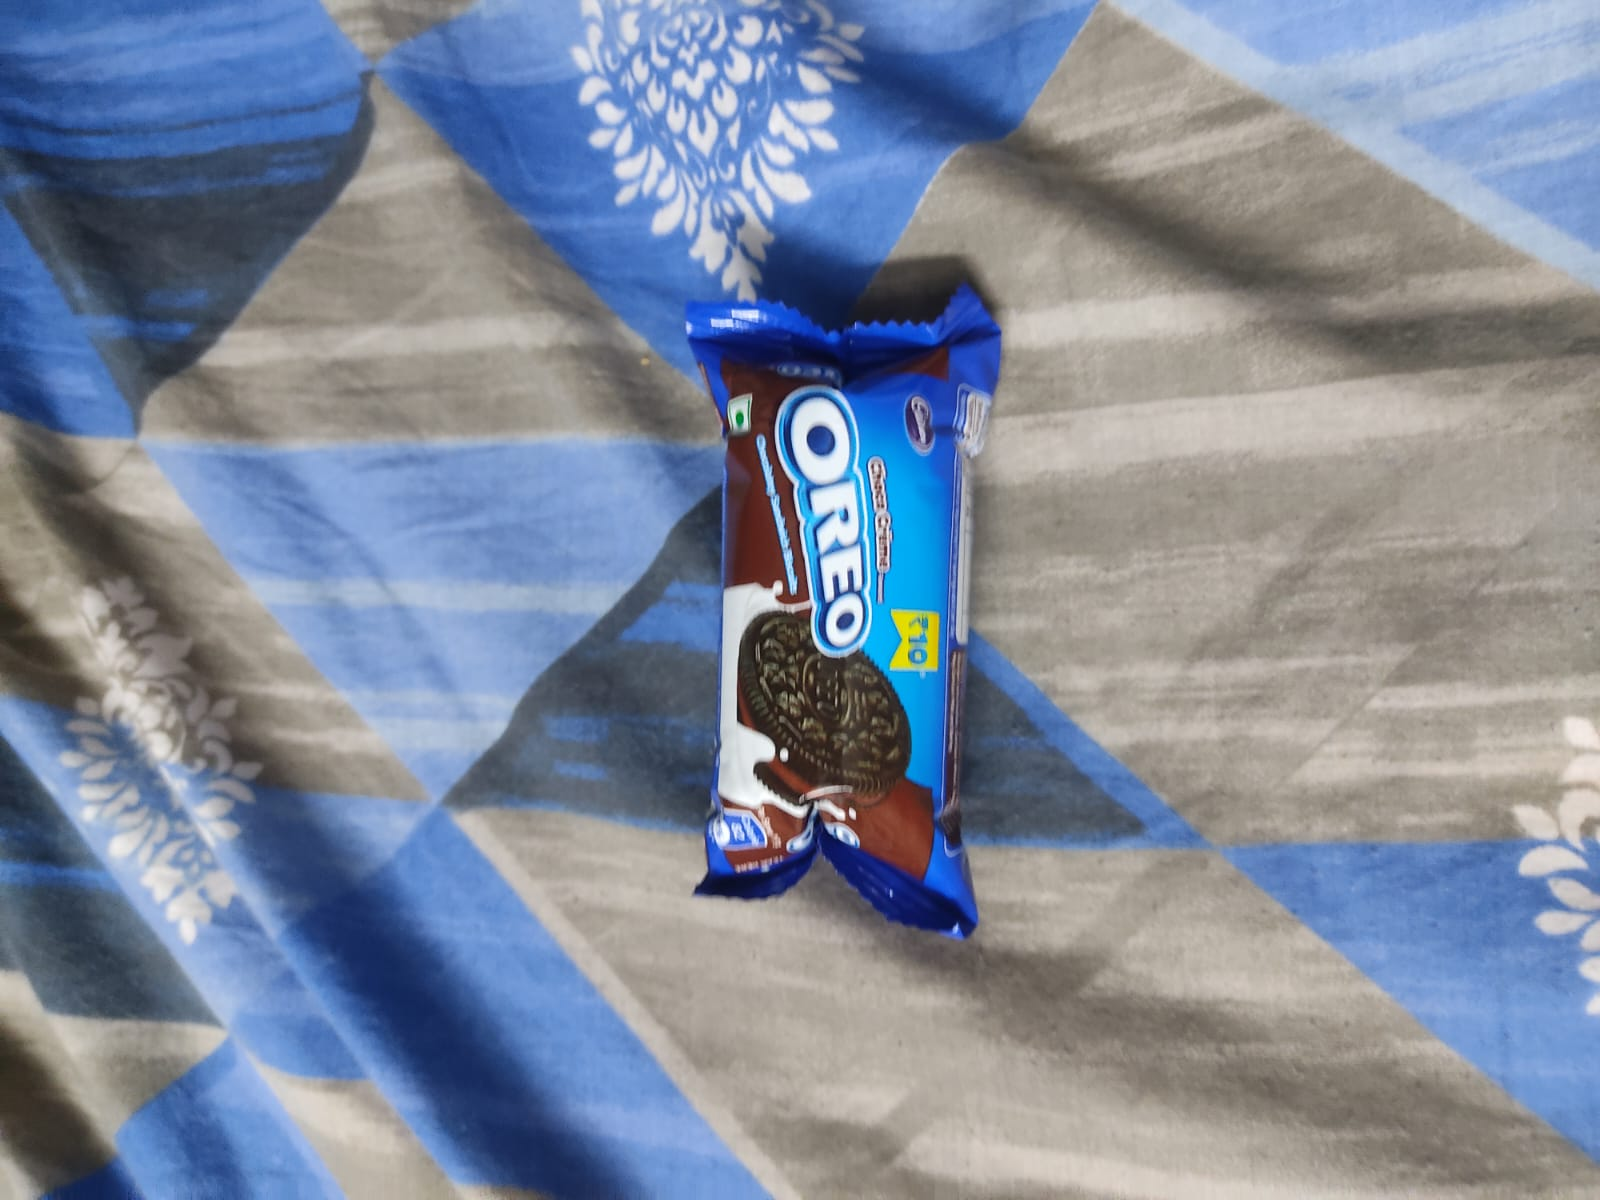010_Oreos: (692, 318, 983, 921)
